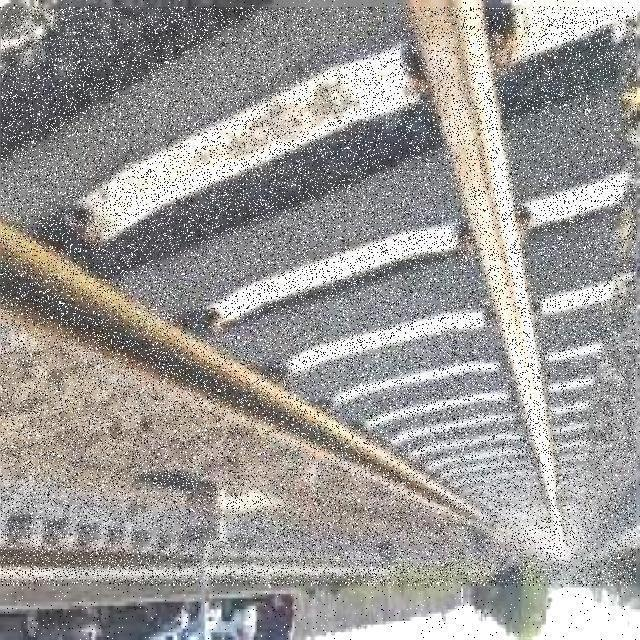rail: (2, 8, 637, 586)
